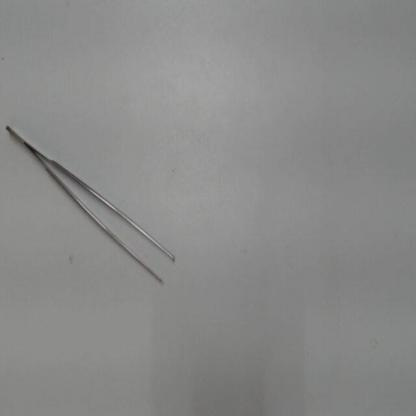Gillies Toothed Dissector: (2, 116, 184, 304)
